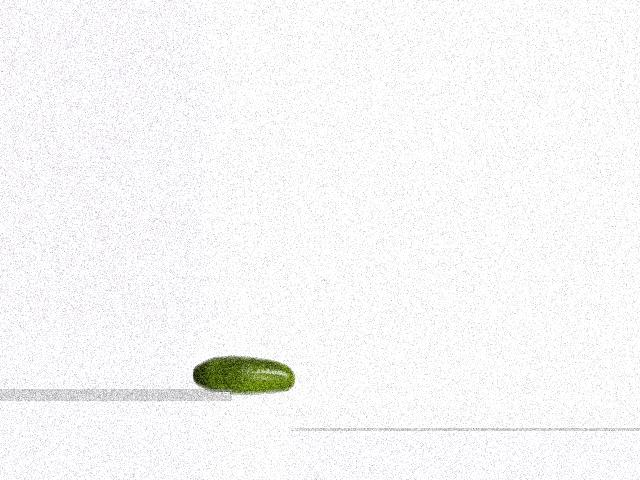cucumber: (191, 355, 295, 395)
